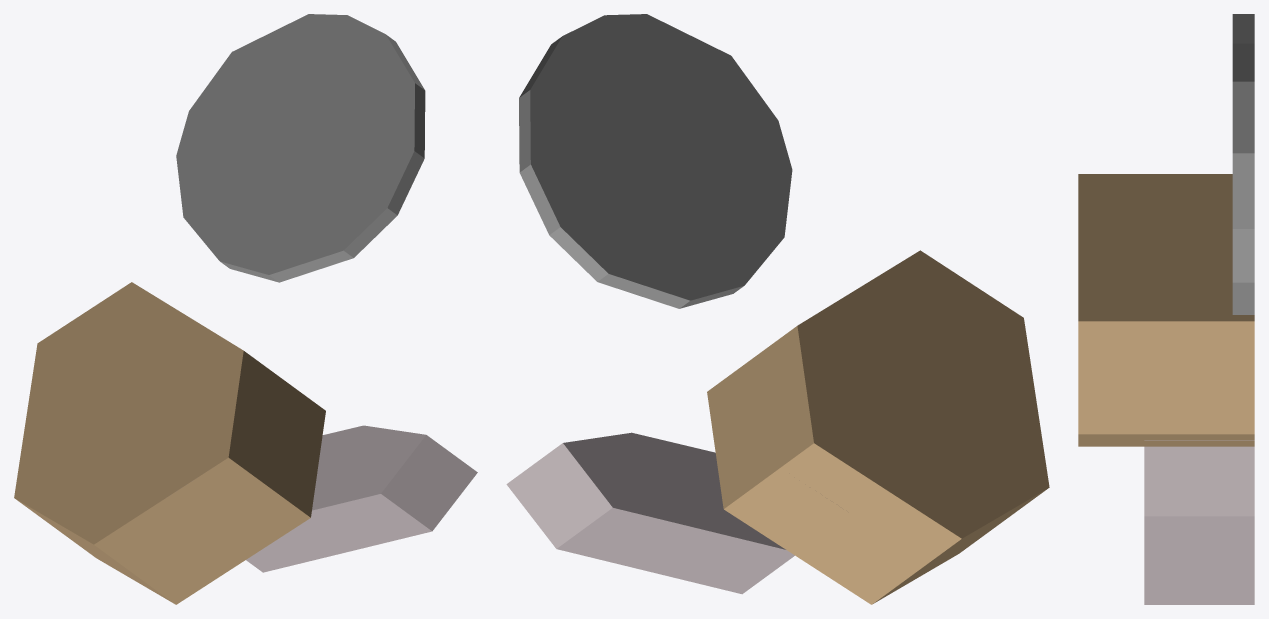
The picture shows the model from 3 angles, left to right: view 1: azimuth 30°, elevation 25°; view 2: azimuth 150°, elevation 25°; view 3: azimuth 270°, elevation 25°; orthographic projection. The views are drawn at different scales.
Visible parts, largest first — view 1: 0_3_1_3_3_0_0_2; view 2: 0_3_1_3_3_0_0_2; view 3: 0_3_1_3_3_0_0_2.
Part boxes in pixels (bbox=[...]): 0_3_1_3_3_0_0_2: bbox=[14, 14, 477, 604]; 0_3_1_3_3_0_0_2: bbox=[506, 14, 1049, 604]; 0_3_1_3_3_0_0_2: bbox=[1078, 14, 1254, 604].
Size of the model in its own units: 69.4 by 79.99 by 24.
